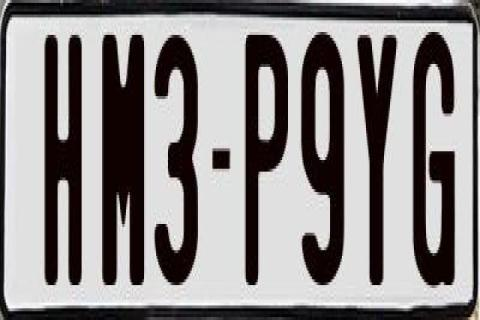0: (298, 32, 346, 300), (154, 32, 200, 294)
G: (410, 24, 458, 294)
H: (42, 29, 80, 291)
M: (100, 35, 142, 303)
P: (242, 32, 286, 296)
Y: (358, 29, 398, 279)
